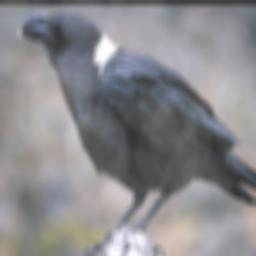Crow: (16, 10, 256, 256)
